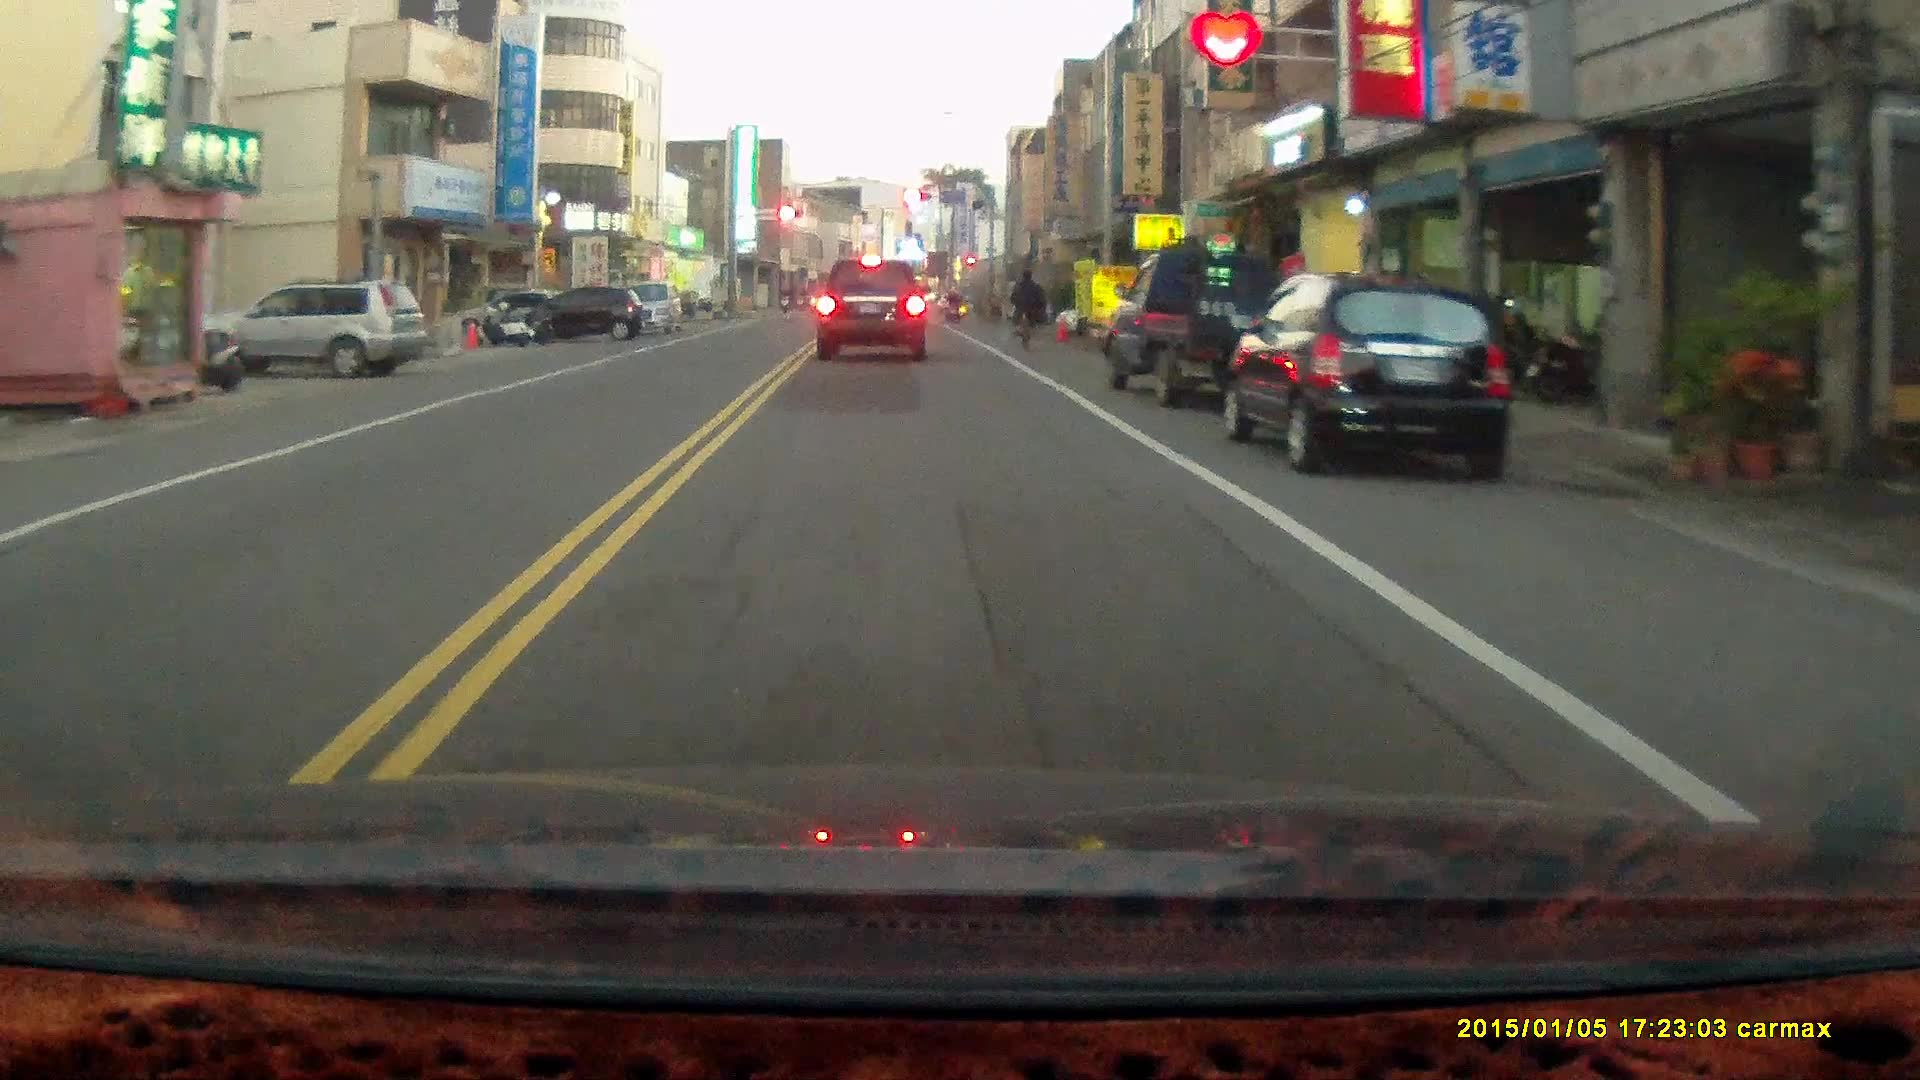rider: (1006, 265, 1042, 348)
vehicle: (1224, 271, 1513, 479), (1099, 245, 1302, 410), (199, 285, 431, 386), (815, 259, 931, 367), (520, 285, 651, 345)
